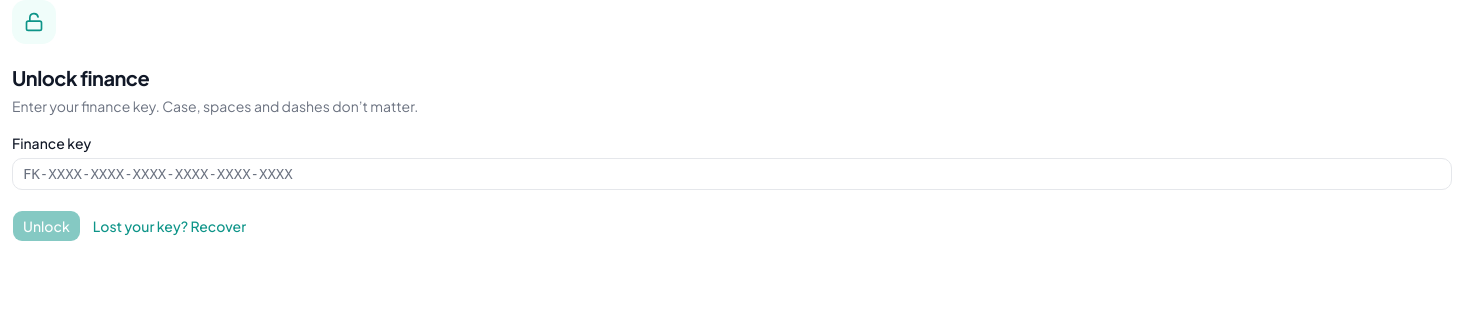
Test: finance keys never persist in the browser › unlock: a malformed key gets the shape message; lockout disables entry
Type "hello" into the field labelled "Finance key". click: (732, 174)
box: [12,158,1452,190]
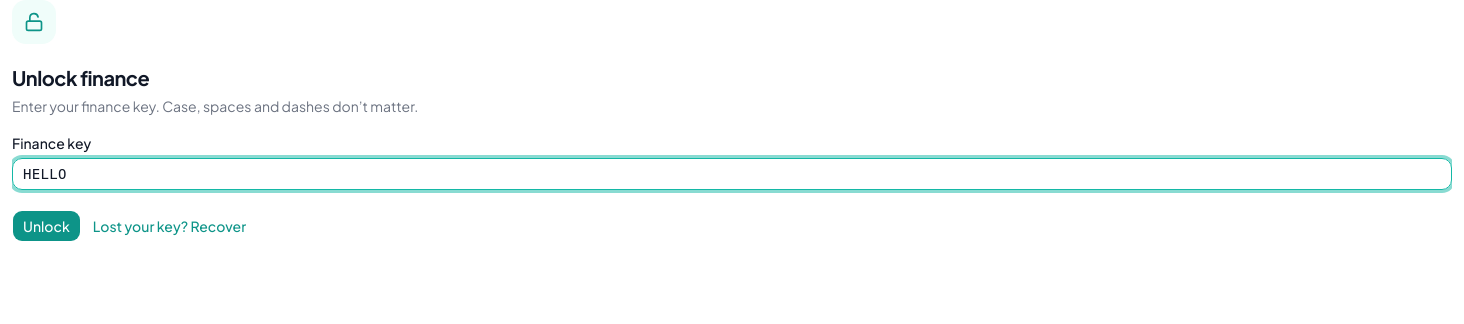
Click the button "Unlock". click: (46, 226)
box: [12,210,81,242]
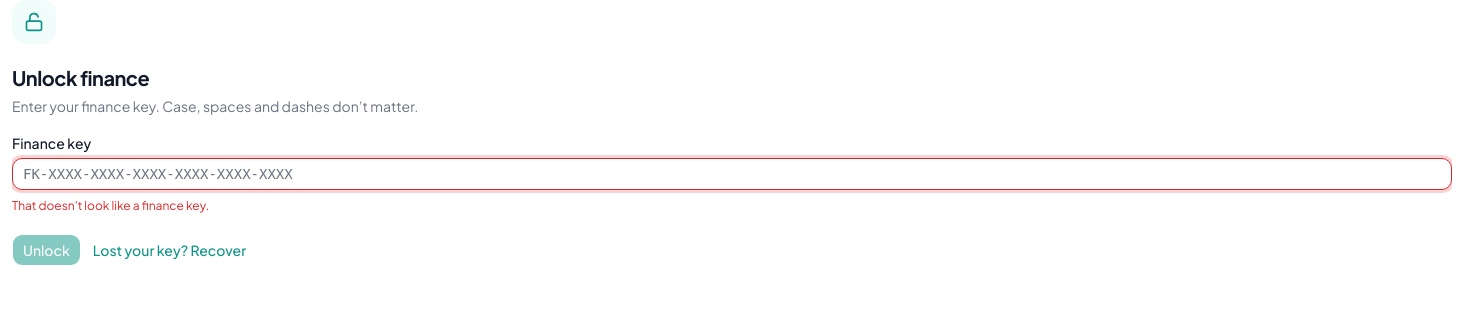
Expected: the text "That doesn't look like a finance key." is shown, [12,198,209,213]
Type "FK-ABCD-EFGH-JKMN-PQRS-TVWX-YZ12" into the field labelled "Finance key". click: (732, 174)
box: [12,158,1452,190]
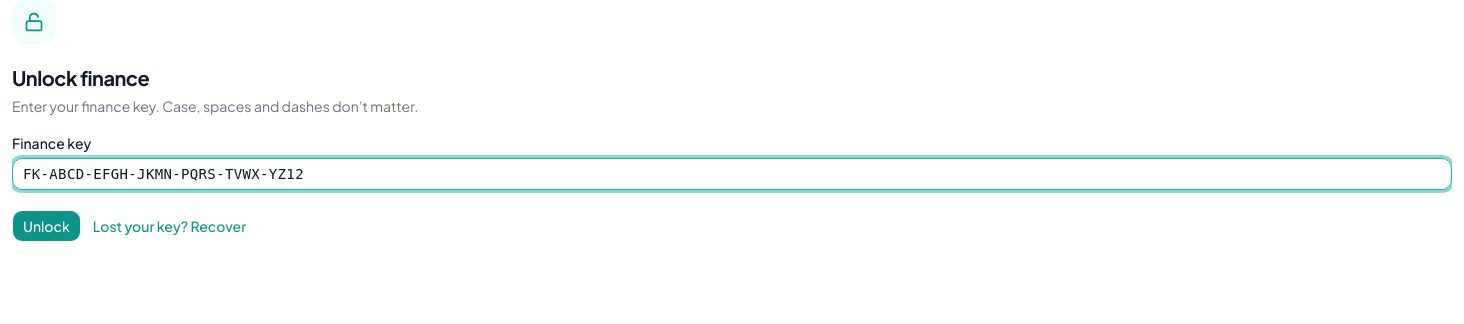
Click the button "Unlock". click: (46, 226)
box: [12,210,81,242]
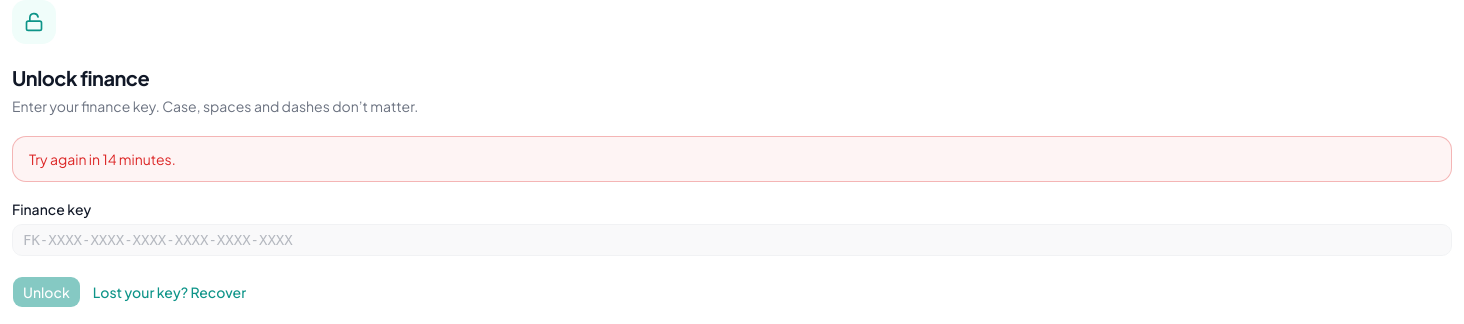
Expected: the text "Try again in 14 minutes." is shown, [12,136,1452,182]
Expected: the field labelled "Finance key" is disabled, [12,224,1452,256]
